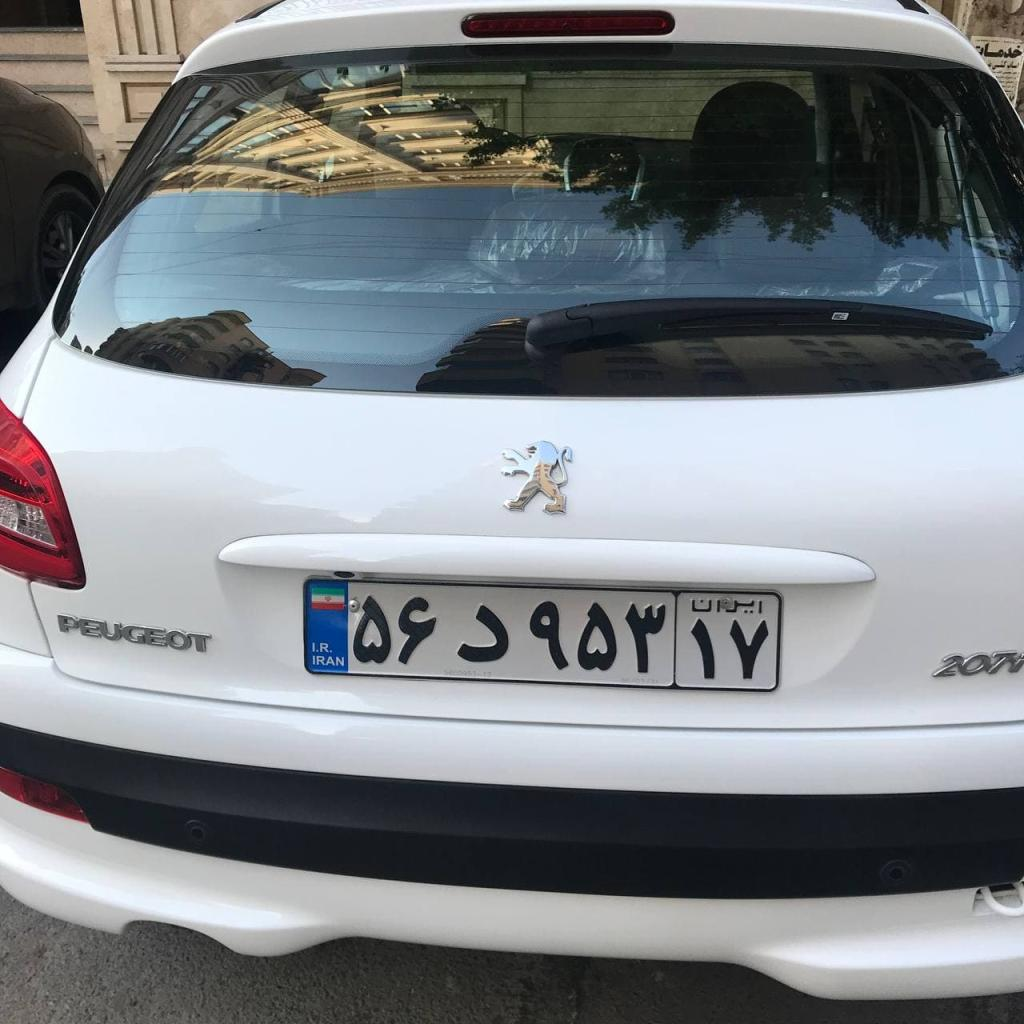Plates: (302, 576, 783, 692)
